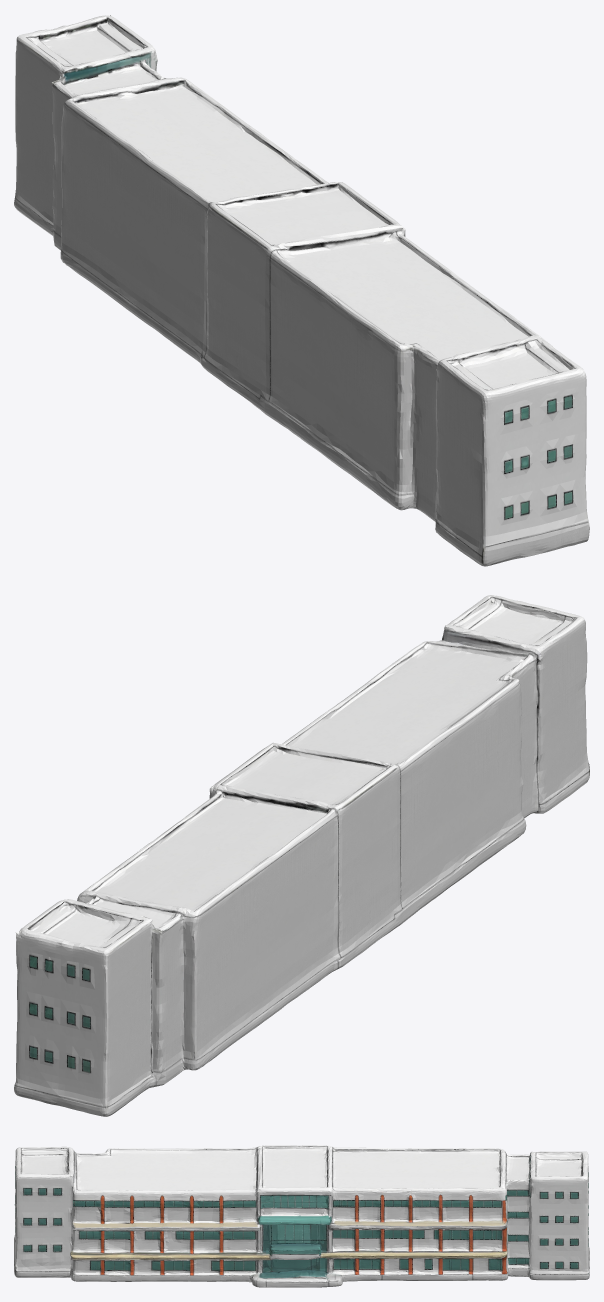
File: Lumbini.glb
The picture shows the model from 3 angles, top to bottom: view 1: azimuth 30°, elevation 25°; view 2: azimuth 150°, elevation 25°; view 3: azimuth 270°, elevation 25°; orthographic projection. The views are drawn at different scales.
Visible parts, largest first — view 1: tripo_node_1abea0d6-1de6-45f6-a9ab-2184bed199bb; view 2: tripo_node_1abea0d6-1de6-45f6-a9ab-2184bed199bb; view 3: tripo_node_1abea0d6-1de6-45f6-a9ab-2184bed199bb.
Boxes of the visible parts, <box> form: tripo_node_1abea0d6-1de6-45f6-a9ab-2184bed199bb: <box>14,15,589,566</box>; tripo_node_1abea0d6-1de6-45f6-a9ab-2184bed199bb: <box>14,595,589,1116</box>; tripo_node_1abea0d6-1de6-45f6-a9ab-2184bed199bb: <box>14,1145,589,1287</box>.
Size of the model in its own units: 0.2827 by 0.2944 by 1.5.
1 material, 1 textured.
